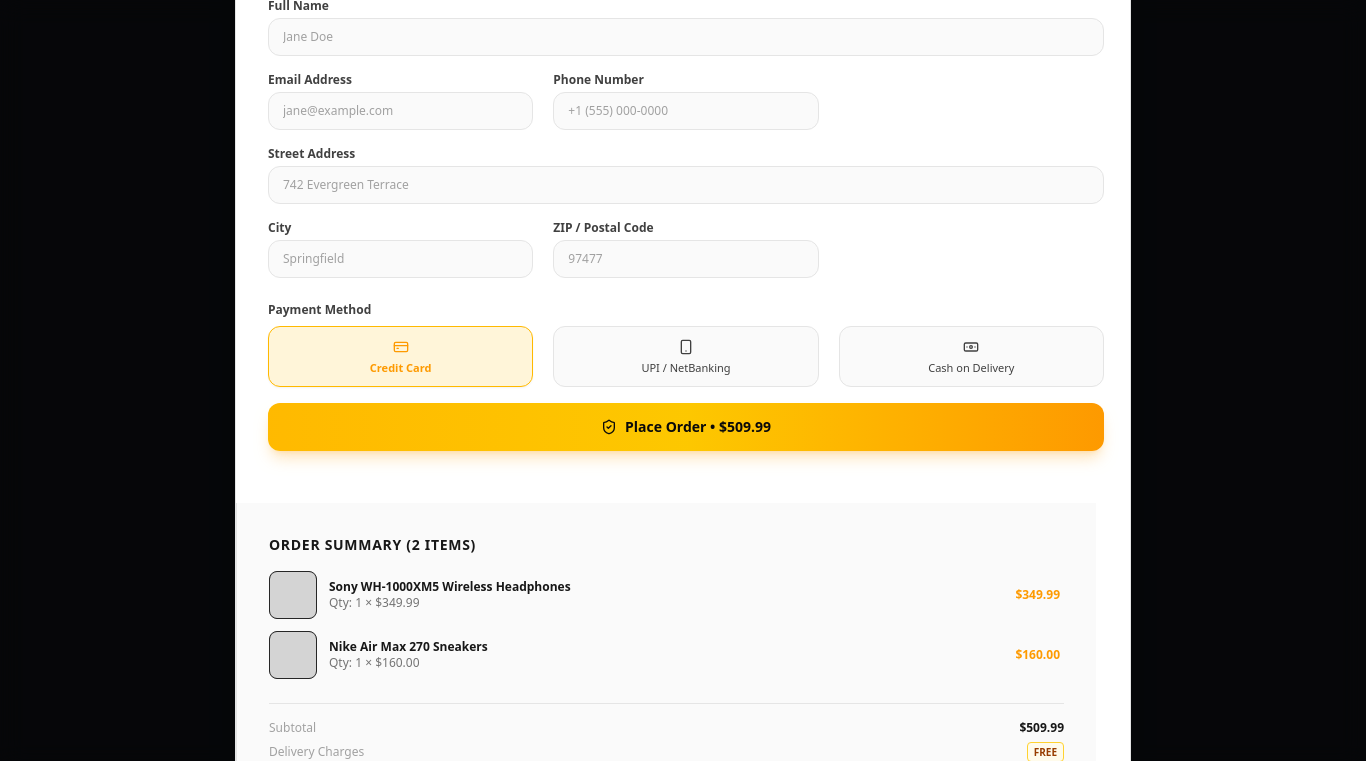
Test: Checkout Component › displays validation errors when submitting an empty form
Click the button "Place Order • $509.99".
click(686, 427)  # box [268,403,1104,451]
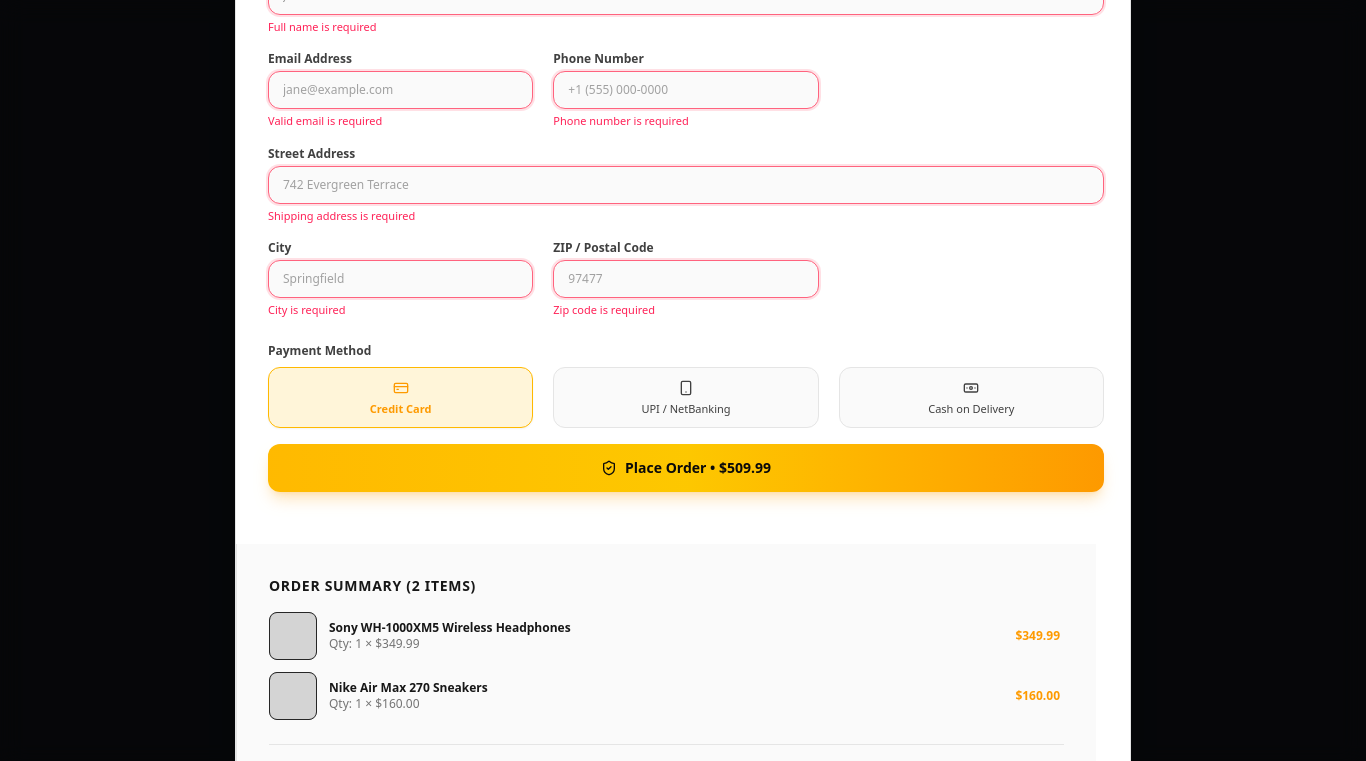
Expected: the text "Full name is required" is shown, [268,19,377,34]
Expected: the text "Valid email is required" is shown, [268,113,382,128]
Expected: the text "Phone number is required" is shown, [553,113,689,128]
